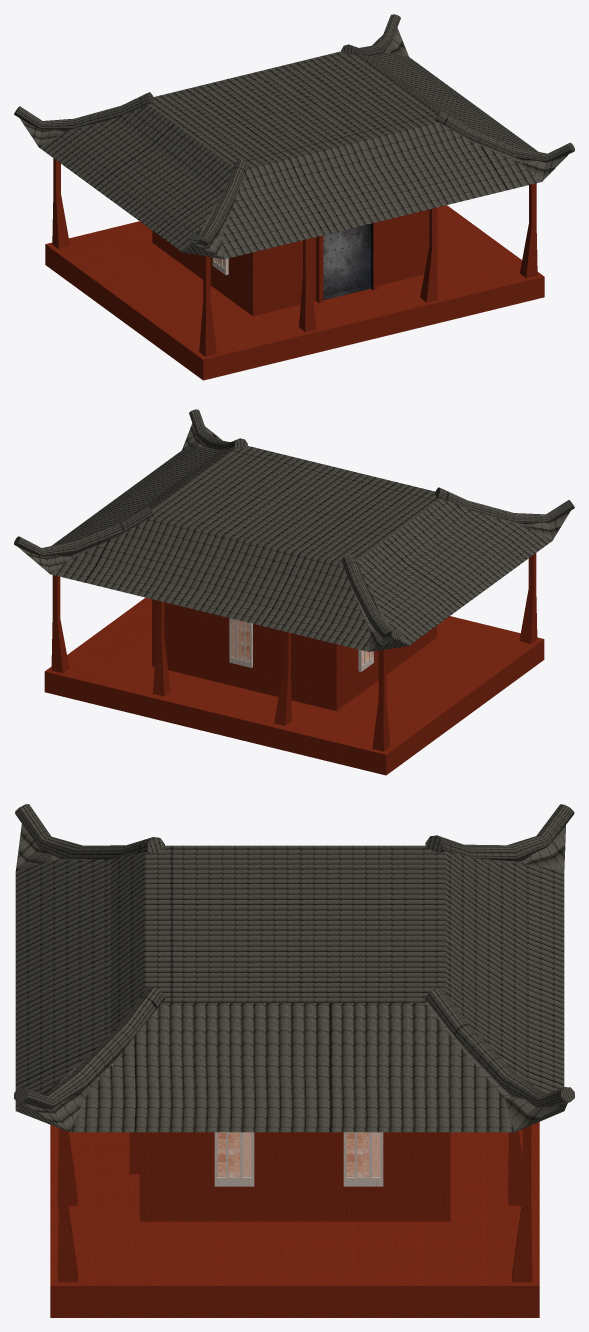
The model's file is castle_1.fbx.
3 renders of one model, top to bottom at view 1: azimuth 30°, elevation 25°; view 2: azimuth 150°, elevation 25°; view 3: azimuth 270°, elevation 25°, orthographic. The views are drawn at different scales.
Parts seen in each view (by area): view 1: polySurface32; view 2: polySurface32; view 3: polySurface32.
Boxes of the visible parts, <box> form: polySurface32: <box>14,14,574,380</box>; polySurface32: <box>14,409,574,775</box>; polySurface32: <box>14,804,574,1317</box>.
Size of the model in its own units: 3.66 by 1.62 by 2.97.
